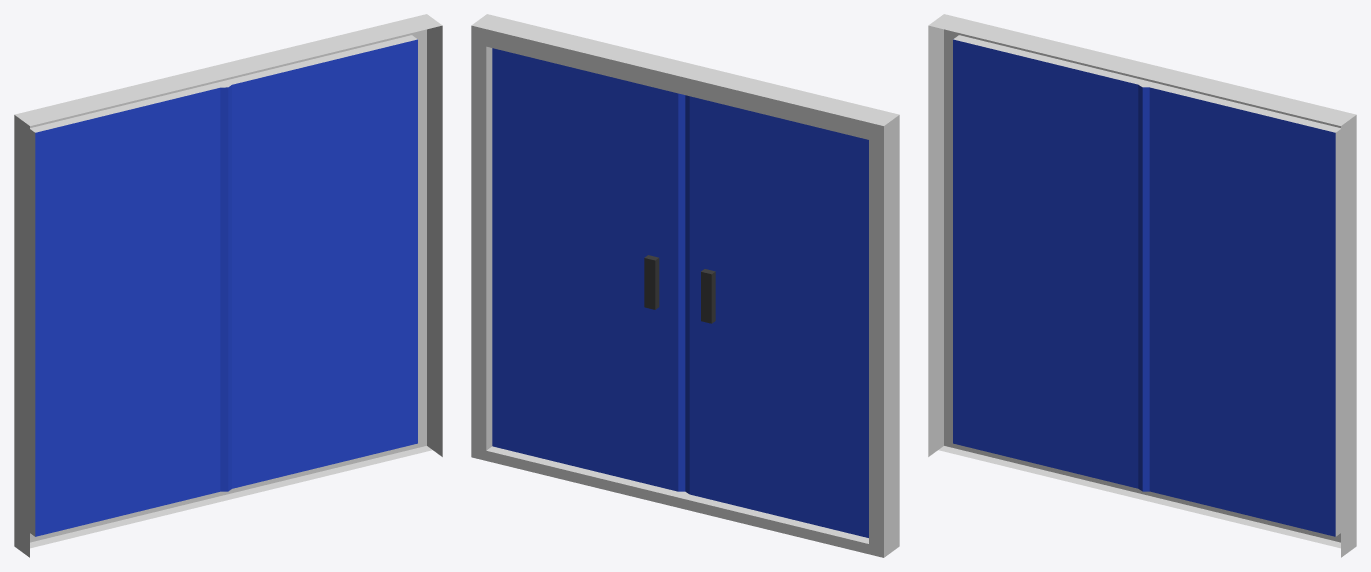
File: Door.fbx
3 renders of one model, left to right at view 1: azimuth 30°, elevation 25°; view 2: azimuth 150°, elevation 25°; view 3: azimuth 330°, elevation 25°, orthographic.
Visible parts, largest first — view 1: Door; view 2: Door; view 3: Door.
Part boxes in pixels (x1,y1,x2,y2): Door: [14, 14, 442, 557]; Door: [471, 14, 899, 557]; Door: [928, 14, 1356, 557].
Bounding box in the file's own units: 387 × 387 × 25.62.
